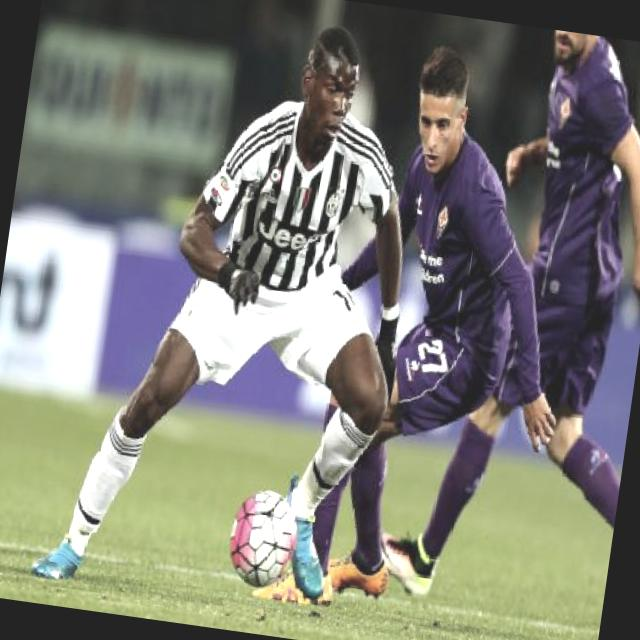Person: (340, 29, 534, 583), (185, 0, 403, 467)
